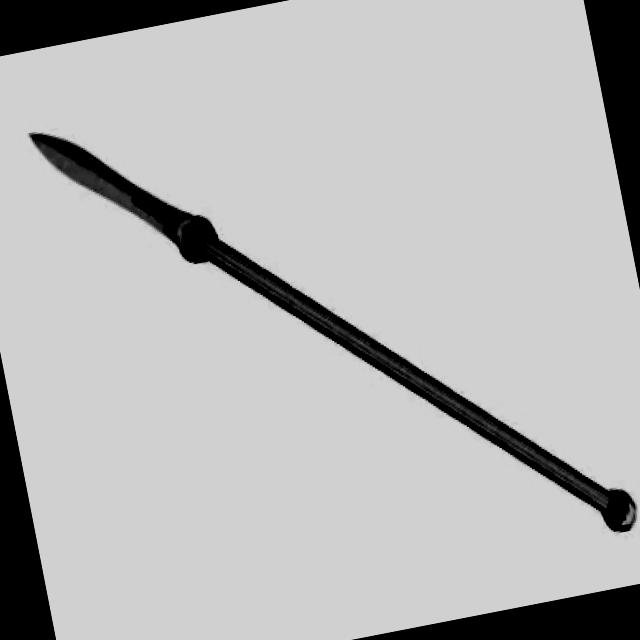spear: (7, 6, 640, 640)
